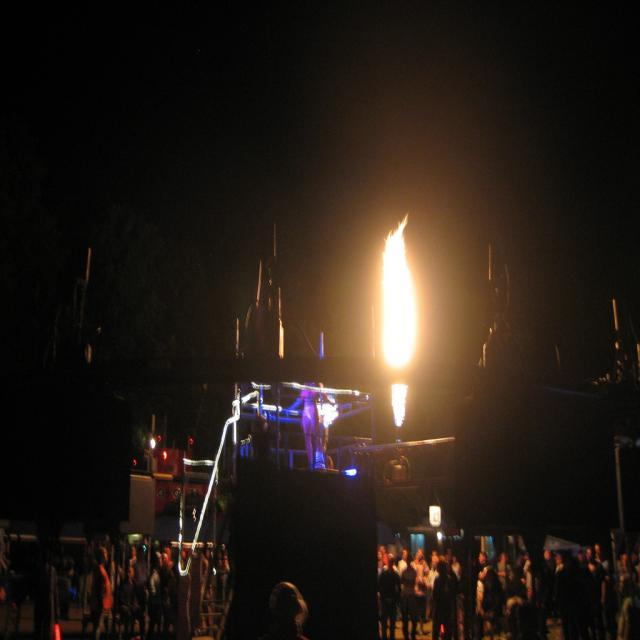Fire: (376, 220, 419, 370), (388, 383, 412, 427)
